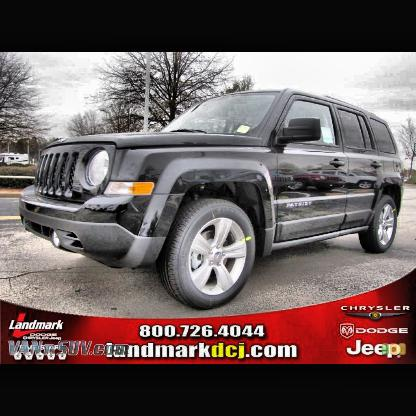Jeep Patriot SUV 2012: (19, 89, 402, 301)
